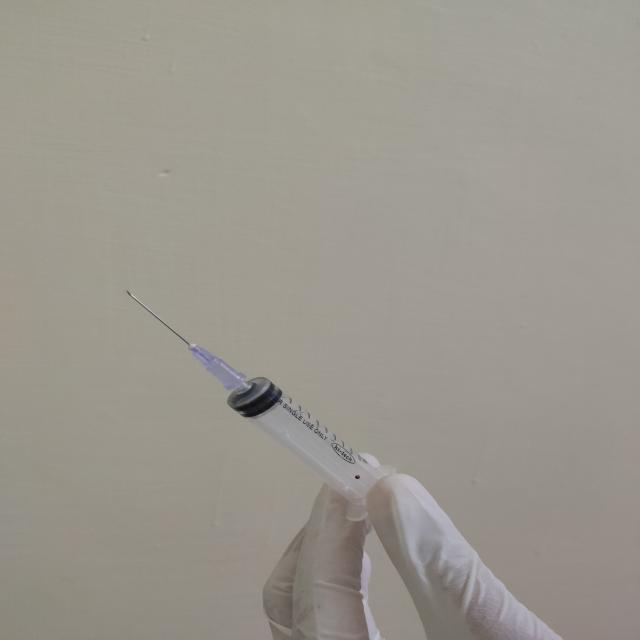B3: (116, 276, 404, 510), (248, 368, 389, 512), (120, 285, 259, 398)
